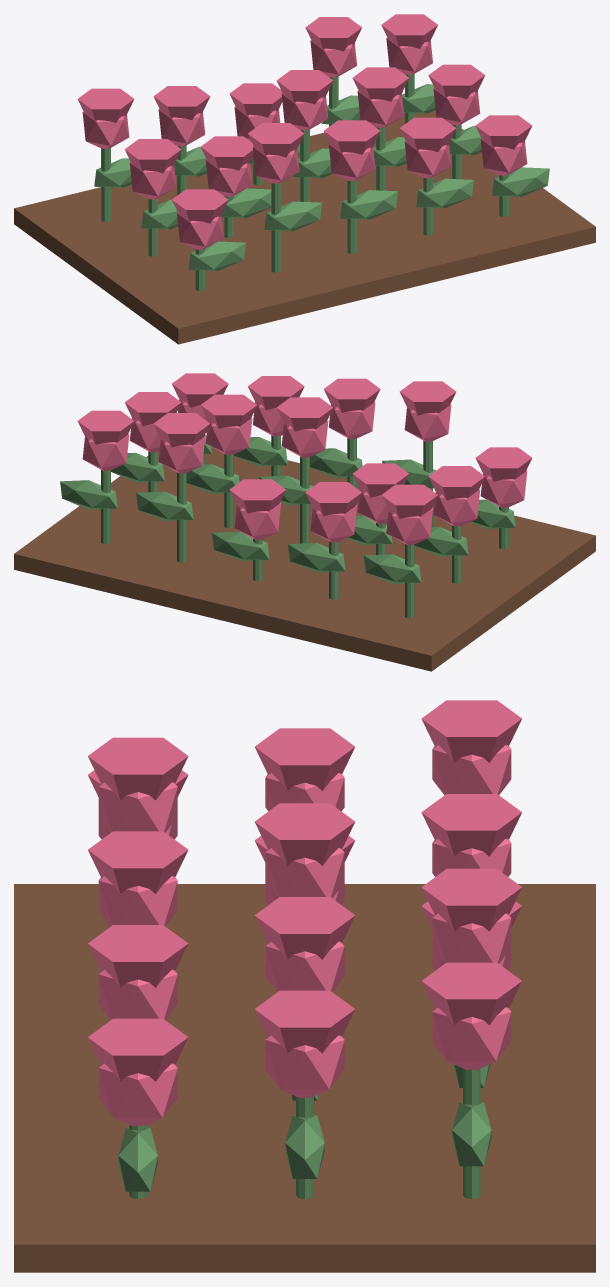
Rendered from nature_tulips.glb.
3 renders of one model, top to bottom at view 1: azimuth 30°, elevation 25°; view 2: azimuth 150°, elevation 25°; view 3: azimuth 270°, elevation 25°, orthographic. The views are drawn at different scales.
Visible parts, largest first — view 1: nature_tulips; view 2: nature_tulips; view 3: nature_tulips.
Boxes of the visible parts, x1=… form: nature_tulips: x1=14, y1=14, x2=595, y2=344; nature_tulips: x1=14, y1=373, x2=595, y2=671; nature_tulips: x1=14, y1=700, x2=595, y2=1272.
Size of the model in its own units: 2.2 by 0.77 by 1.5.
